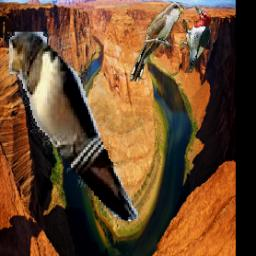Cuckoo: (131, 3, 185, 83)
Swallow: (6, 33, 138, 222)
Woodpecker: (180, 7, 211, 74)
